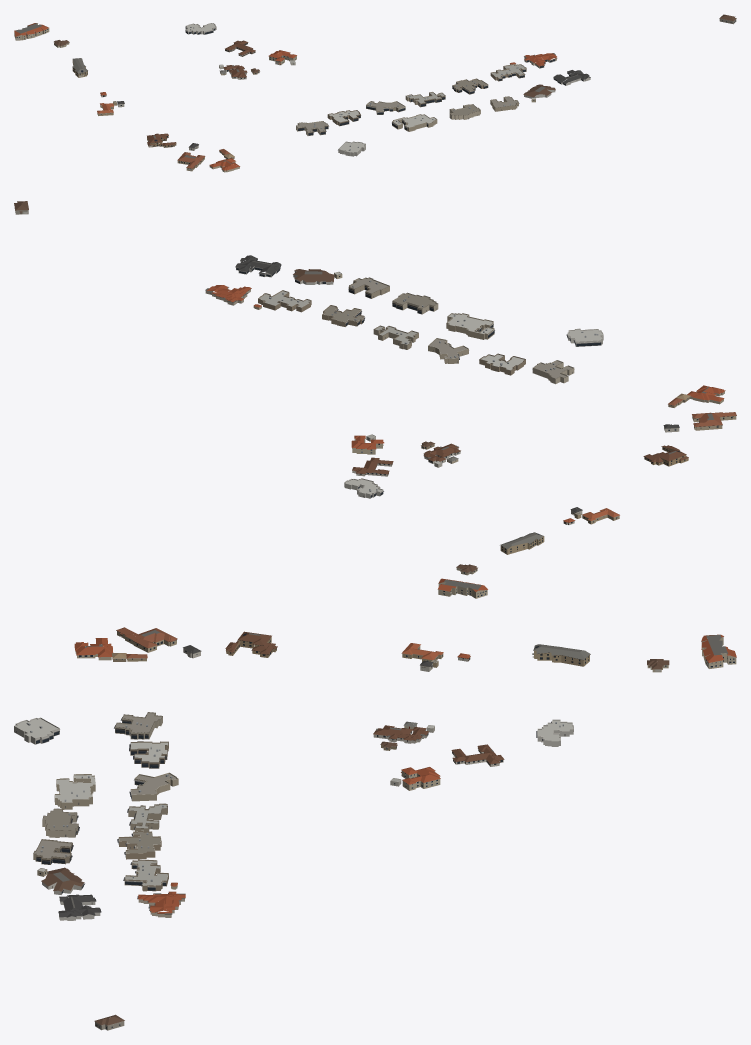
The picture shows the model from 3 angles, top to bottom: view 1: azimuth 30°, elevation 25°; view 2: azimuth 150°, elevation 25°; view 3: azimuth 270°, elevation 25°; orthographic projection. The views are drawn at different scales.
Visible parts, largest first — view 1: buildings_r5_c0_lod0; view 2: buildings_r5_c0_lod0; view 3: buildings_r5_c0_lod0.
Boxes of the visible parts, <box> form: buildings_r5_c0_lod0: <box>14,14,736,172</box>; buildings_r5_c0_lod0: <box>14,201,736,598</box>; buildings_r5_c0_lod0: <box>14,627,736,1030</box>.
Size of the model in its own units: 890 by 56.86 by 625.
